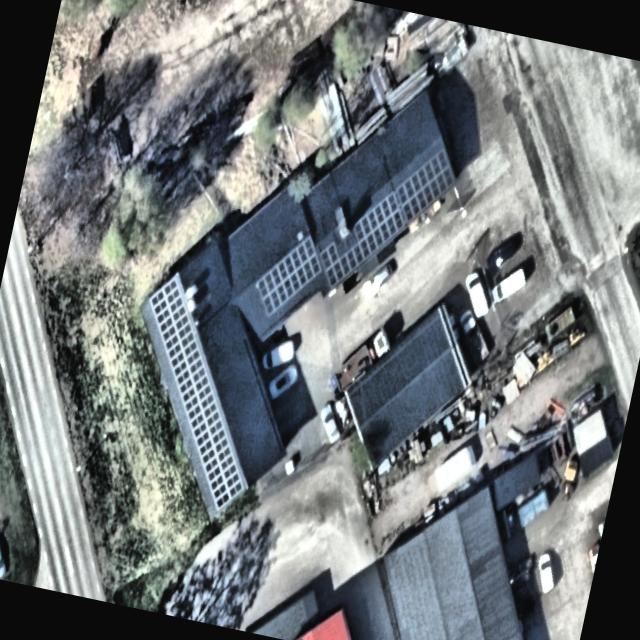roof_pv: (162, 381, 264, 512), (252, 232, 326, 324), (154, 322, 222, 401), (391, 148, 458, 225), (351, 183, 412, 262), (140, 270, 201, 345), (314, 232, 373, 294)
